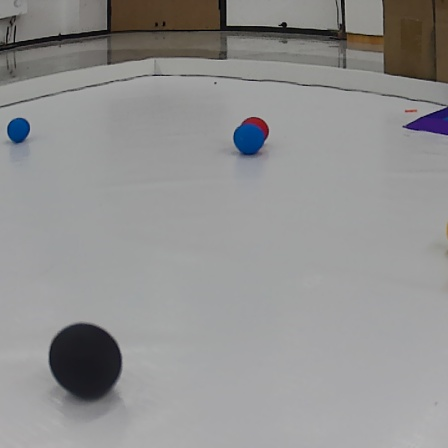black: (48, 323, 123, 399)
blue: (231, 122, 261, 158), (8, 117, 31, 143)
red: (244, 112, 273, 140)
